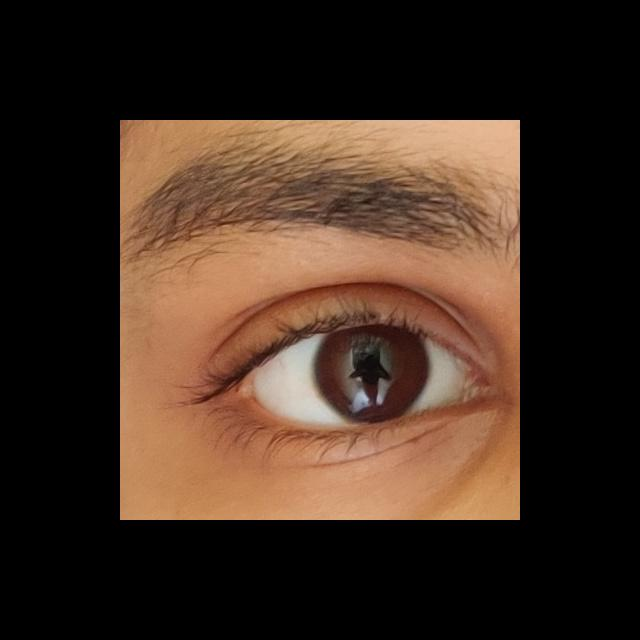eye: (252, 324, 471, 424)
iris: (312, 325, 430, 422)
